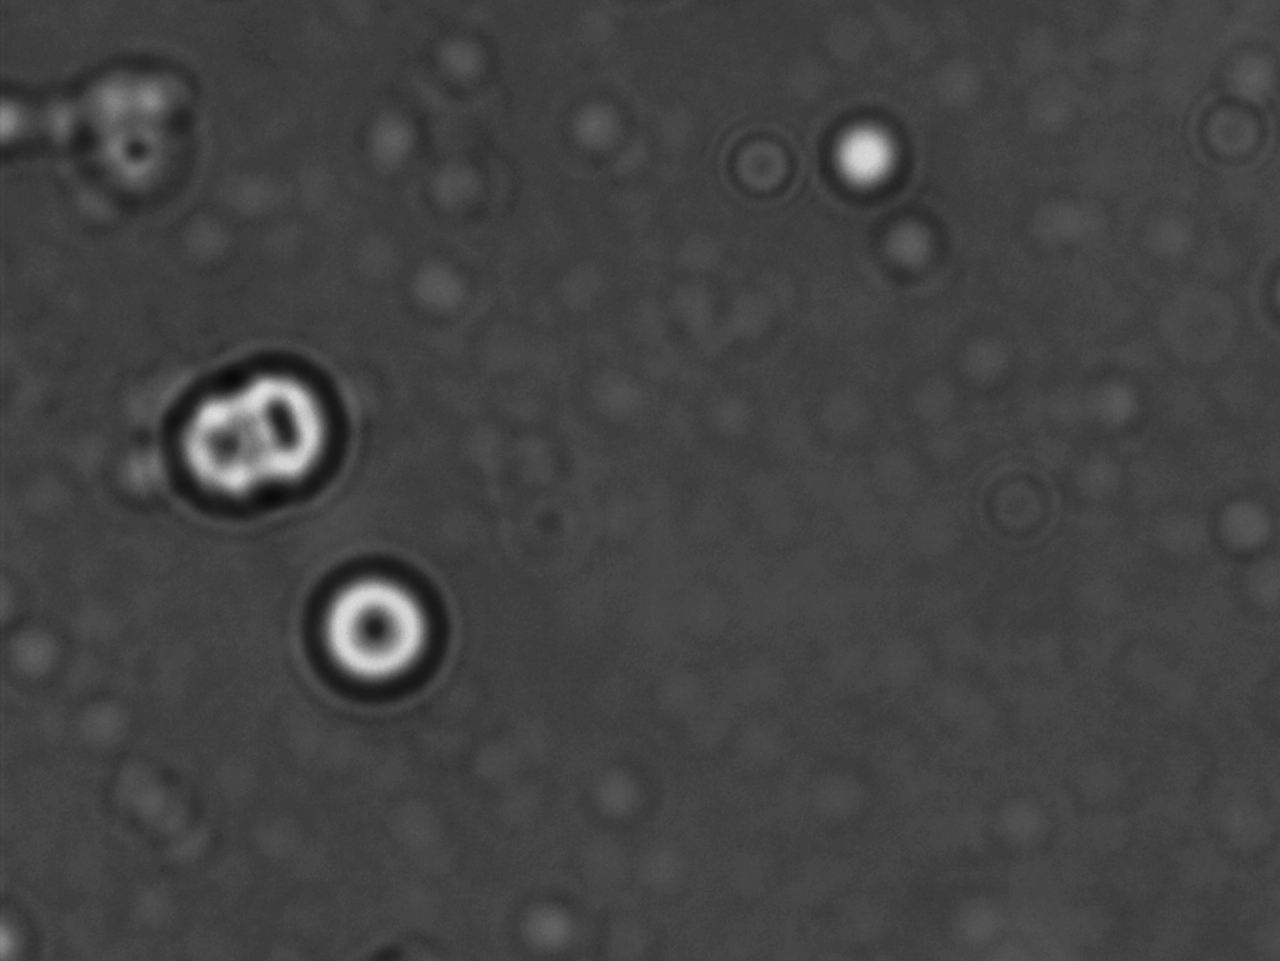depth:24: (285, 546, 456, 720)
